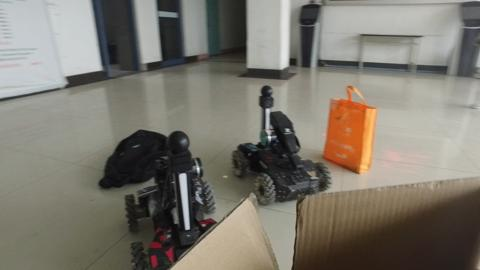bag: (321, 87, 383, 175)
chariot: (229, 84, 331, 201), (126, 131, 212, 269)
